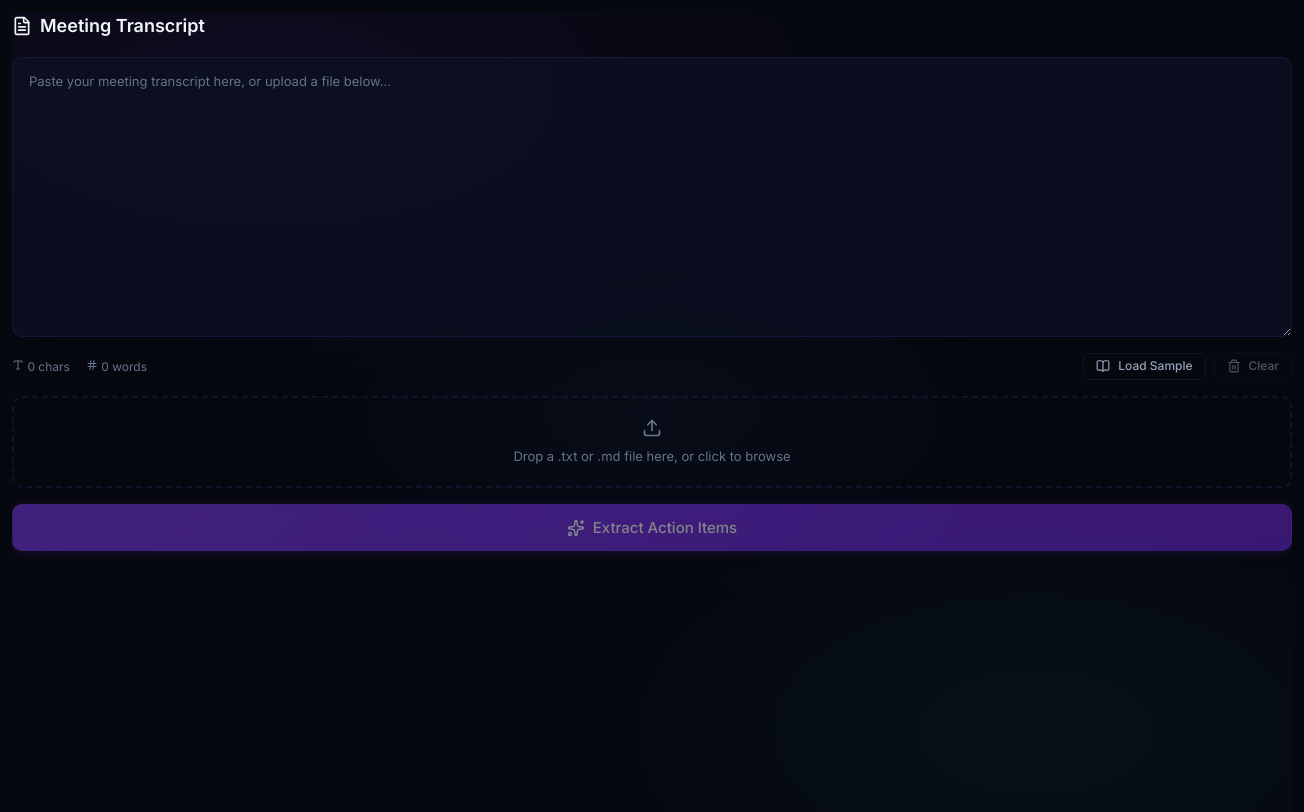
Test: TranscriptInput › enables extract button when transcript is entered
Type "Some meeting transcript content" into the text box with placeholder "Paste your meeting transcript".
click(652, 197); type("Some meeting transcript content")  # box [12, 57, 1292, 337]
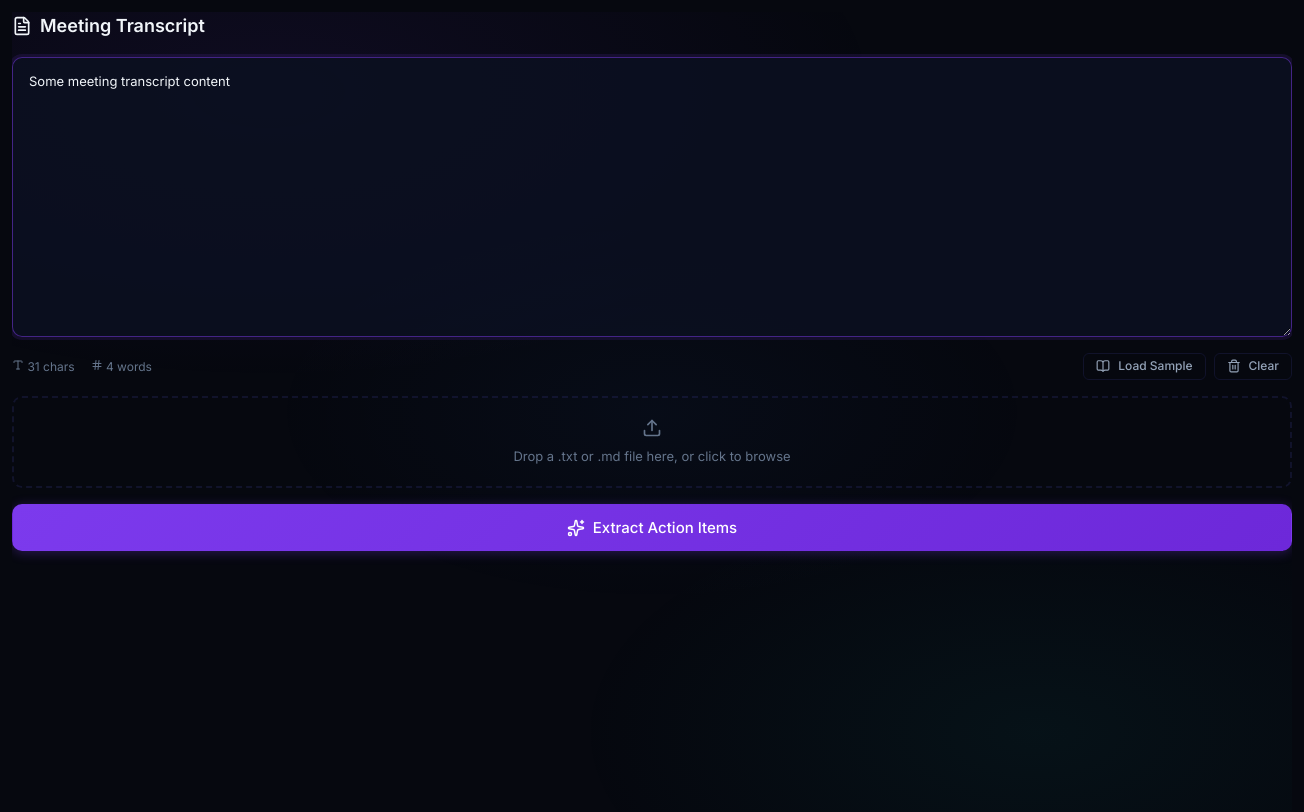
Expected: the button "Extract Action Items" is enabled, [12, 504, 1292, 551]
